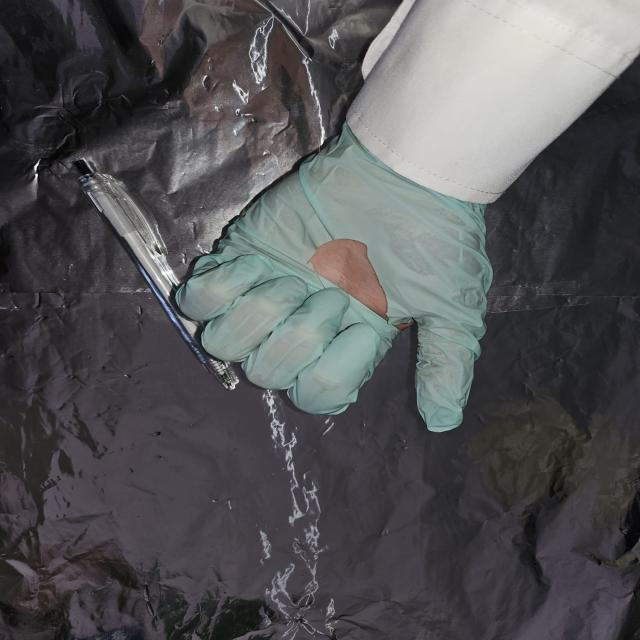gloves_damaged: (172, 117, 494, 432)
